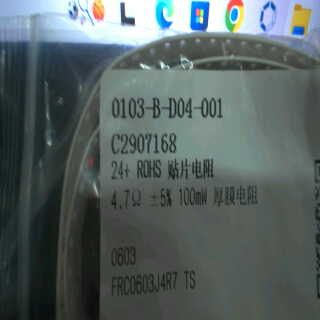4.7R: (106, 182, 149, 214)
